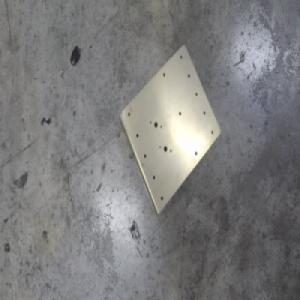MetalSheet: (117, 42, 222, 217)
